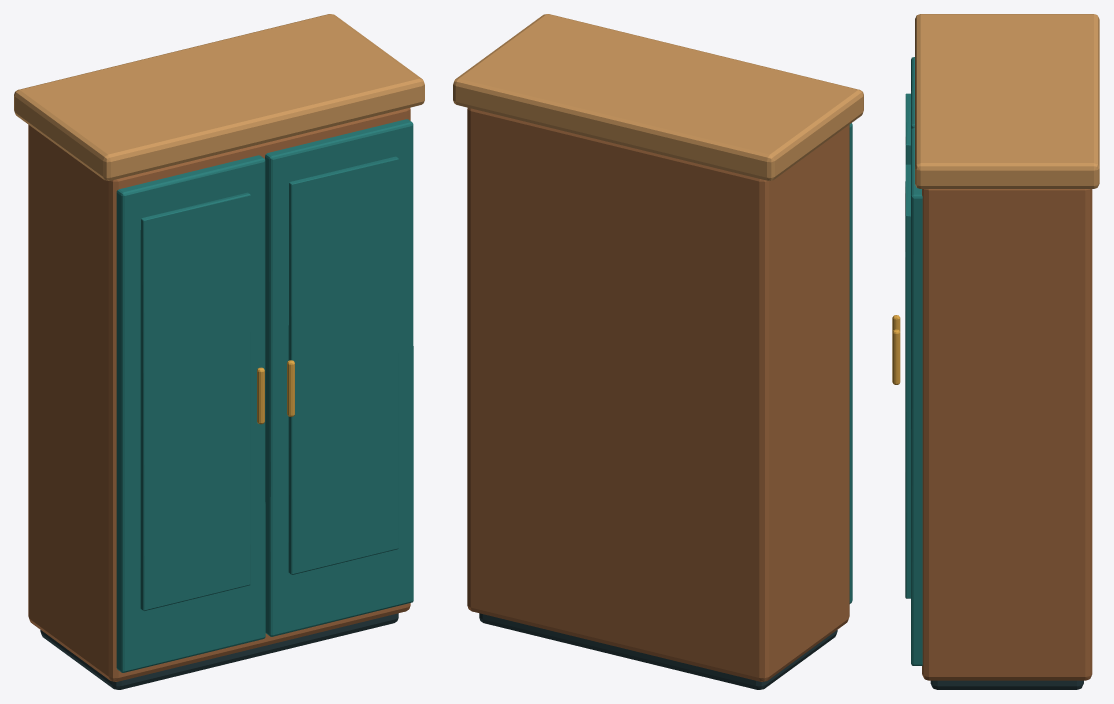
Rendered from wardrobe-near.glb.
3 views of the same model, side by side, from view 1: azimuth 30°, elevation 25°; view 2: azimuth 150°, elevation 25°; view 3: azimuth 270°, elevation 25° (orthographic).
Visible parts, largest first — view 1: wardrobe; view 2: wardrobe; view 3: wardrobe.
Part boxes in pixels (bbox=[...]): wardrobe: bbox=[14, 14, 424, 689]; wardrobe: bbox=[453, 14, 863, 689]; wardrobe: bbox=[892, 14, 1099, 689].
Size of the model in its own units: 1.28 by 2.08 by 0.729.
